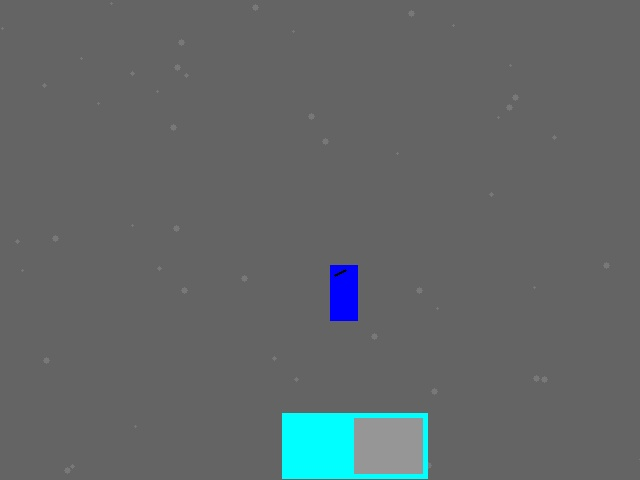motorcycle: (330, 265, 357, 320)
truck: (282, 413, 427, 478)
